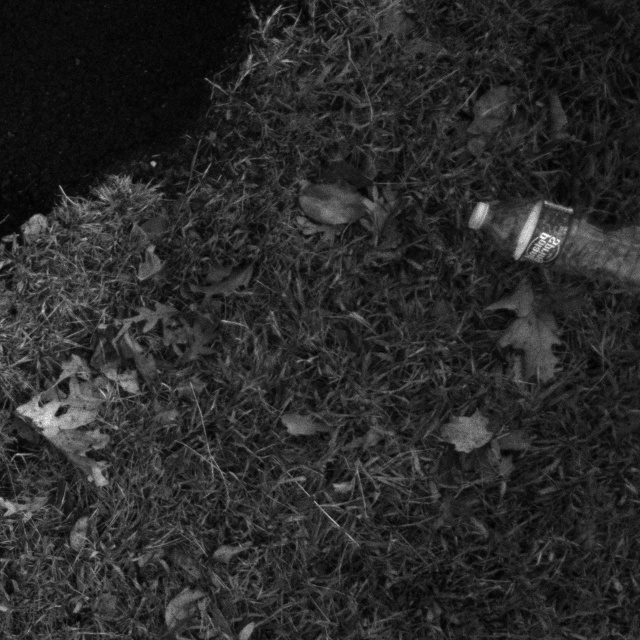bottle: (457, 180, 640, 313)
